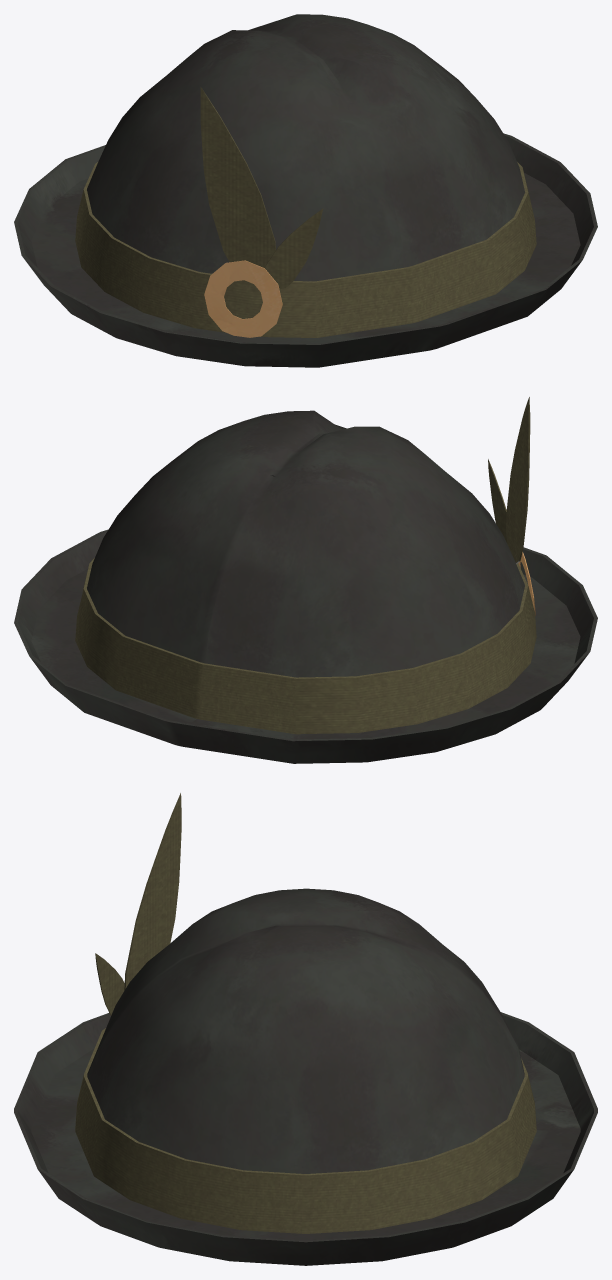
Rendered from Hat.fbx.
3 renders of one model, top to bottom at view 1: azimuth 30°, elevation 25°; view 2: azimuth 150°, elevation 25°; view 3: azimuth 270°, elevation 25°, orthographic. The views are drawn at different scales.
Visible parts, largest first — view 1: Cappello; view 2: Cappello; view 3: Cappello.
Boxes of the visible parts, <box> form: Cappello: <box>14,14,597,367</box>; Cappello: <box>14,397,597,763</box>; Cappello: <box>14,793,597,1265</box>.
Bounding box in the file's own units: 0.5198 × 0.2469 × 0.4879.
